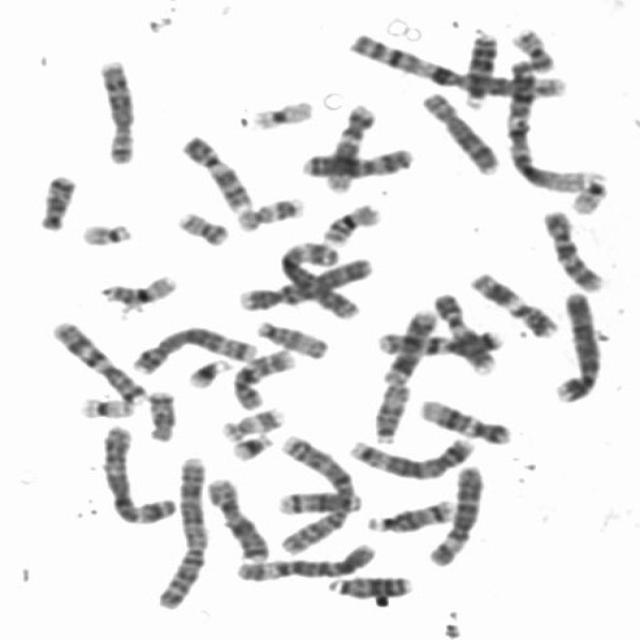A1: (341, 28, 568, 100), (500, 54, 594, 196)
A2: (272, 428, 358, 556), (152, 449, 214, 611)
A3: (95, 418, 179, 526), (274, 237, 364, 323)
B4: (235, 252, 378, 313), (550, 287, 604, 404)
B5: (126, 321, 262, 376), (346, 432, 477, 480)
C10: (536, 203, 609, 294), (227, 343, 300, 411)
C11: (464, 268, 560, 340), (378, 309, 438, 386)
C12: (318, 98, 378, 195), (412, 392, 516, 447)
C6: (421, 460, 488, 568), (229, 538, 378, 583)
C7: (46, 313, 152, 405), (372, 325, 506, 357)
C8: (416, 86, 502, 177), (92, 55, 140, 165)
C9: (174, 131, 254, 213), (428, 288, 498, 376)
D13: (459, 27, 500, 109), (321, 567, 415, 600)
D14: (362, 494, 456, 534), (271, 484, 364, 516)
D15: (250, 314, 332, 361), (368, 378, 412, 446)
E16: (317, 197, 385, 248), (95, 268, 182, 307)
E17: (232, 190, 308, 232), (215, 402, 286, 443)
E18: (34, 168, 79, 233), (142, 385, 179, 444)
F19: (246, 93, 317, 132), (74, 392, 137, 421)
F20: (506, 21, 558, 74), (170, 206, 233, 249)
G21: (184, 353, 234, 389), (224, 428, 276, 462)
G22: (566, 170, 611, 217), (73, 215, 135, 248)
X: (203, 474, 272, 564), (295, 143, 418, 181)
